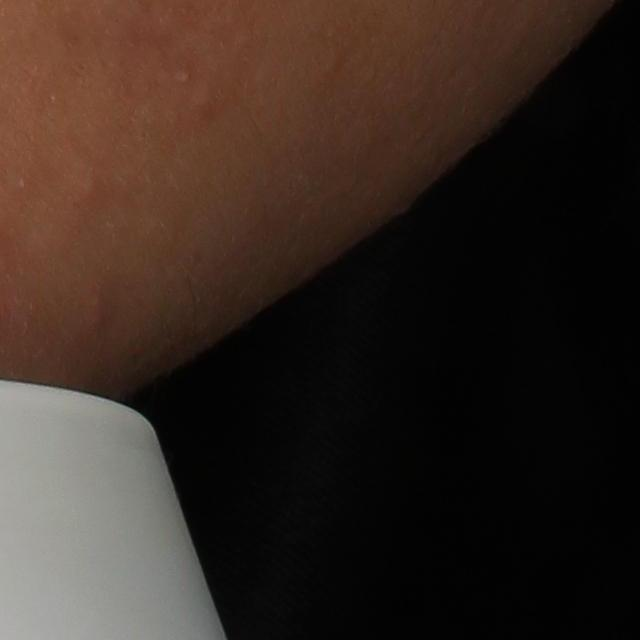comedo: (78, 177, 103, 200), (174, 68, 194, 88)
